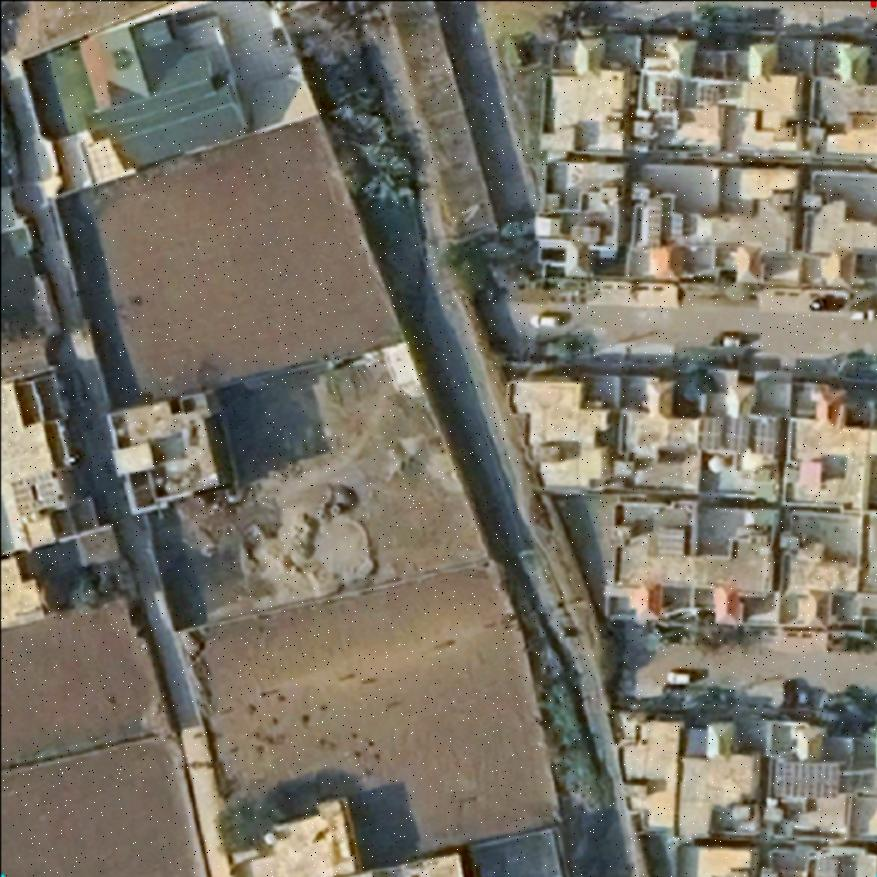Solarpanel: (775, 760, 841, 798), (695, 412, 725, 453), (724, 410, 750, 455), (641, 192, 660, 248), (753, 414, 779, 453), (656, 525, 687, 555), (651, 80, 679, 111), (670, 208, 685, 237), (700, 86, 715, 100)
